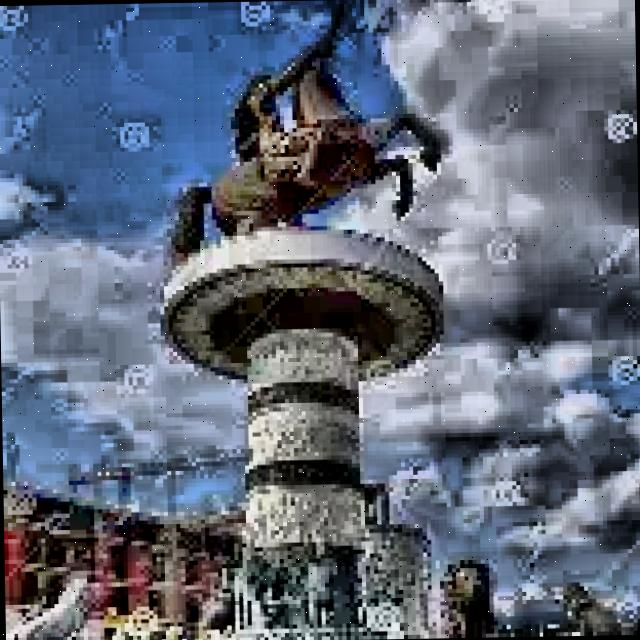alexander the great monument: (138, 0, 465, 640)
